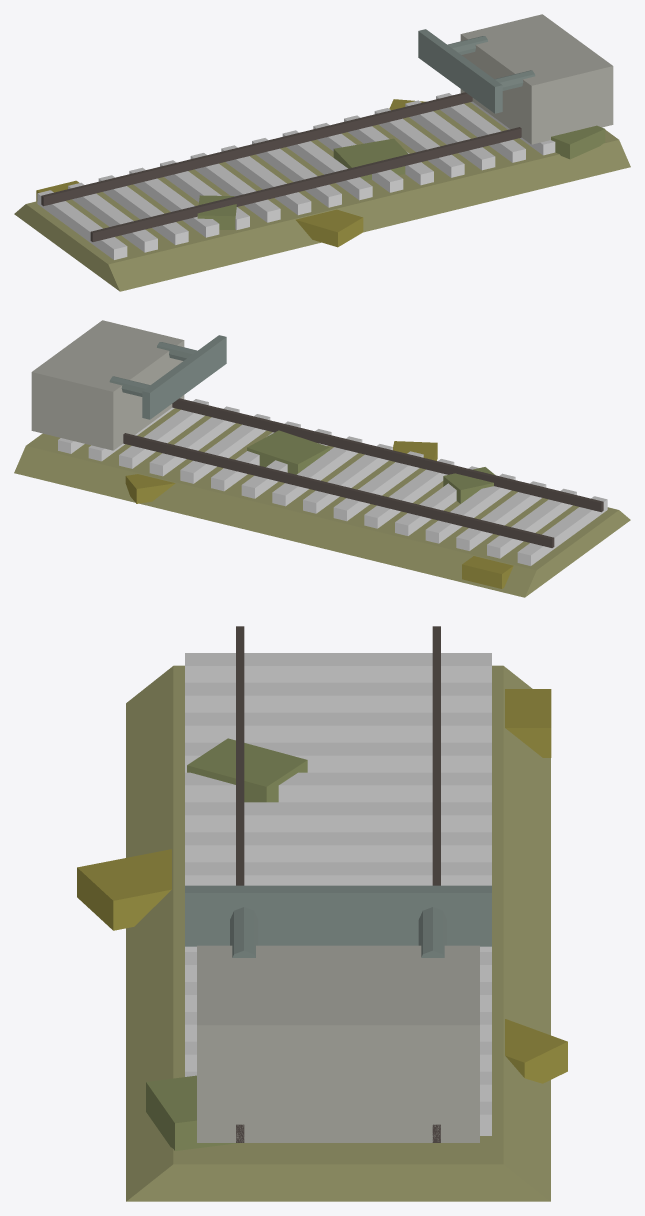
Rendered from SM_Via_Topera_v2_Maleza_LOD0.fbx.
3 renders of one model, top to bottom at view 1: azimuth 30°, elevation 25°; view 2: azimuth 150°, elevation 25°; view 3: azimuth 270°, elevation 25°, orthographic. The views are drawn at different scales.
Visible parts, largest first — view 1: SM_via_trazado_v37_LOD0; view 2: SM_via_trazado_v37_LOD0; view 3: SM_via_trazado_v37_LOD0.
Part boxes in pixels (x1=…): SM_via_trazado_v37_LOD0: x1=14, y1=14, x2=630, y2=291; SM_via_trazado_v37_LOD0: x1=14, y1=320, x2=630, y2=597; SM_via_trazado_v37_LOD0: x1=77, y1=626, x2=567, y2=1201.
Size of the model in its own units: 10 by 1.85 by 4.16.
